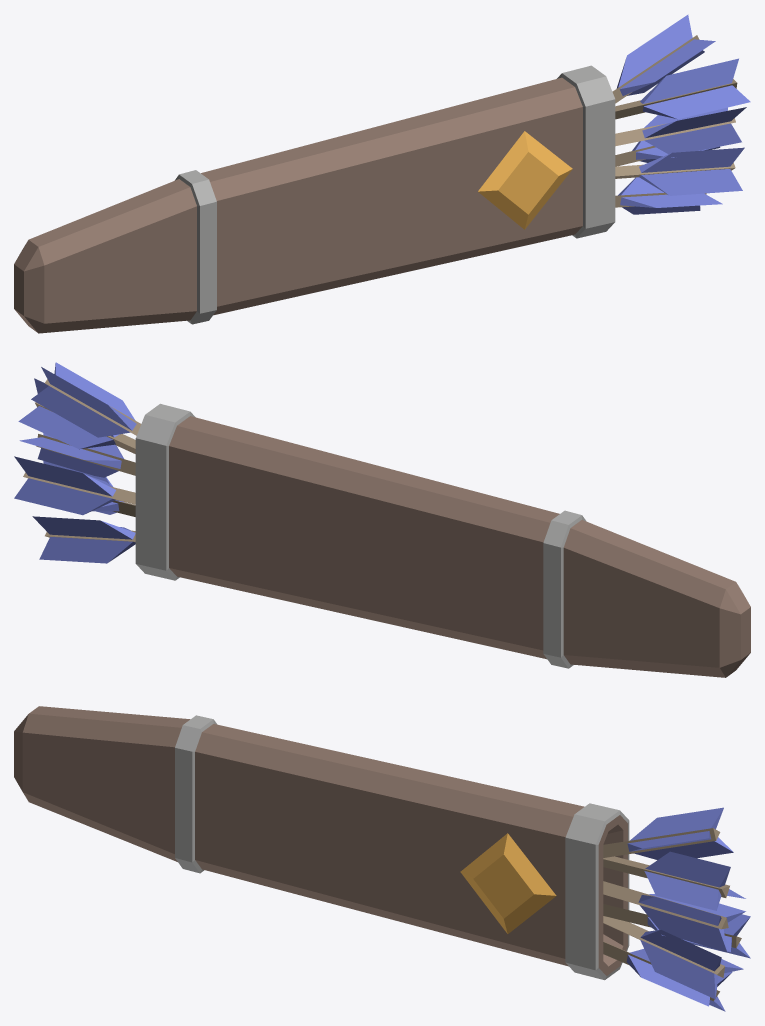
Rendered from quiver.glb.
The picture shows the model from 3 angles, top to bottom: view 1: azimuth 30°, elevation 25°; view 2: azimuth 150°, elevation 25°; view 3: azimuth 330°, elevation 25°; orthographic projection. The views are drawn at different scales.
Visible parts, largest first — view 1: quiver; view 2: quiver; view 3: quiver.
Boxes of the visible parts, <box> form: quiver: <box>14,14,750,333</box>; quiver: <box>14,362,750,677</box>; quiver: <box>14,706,750,1011</box>.
Size of the model in its own units: 1.26 by 0.3278 by 0.1267.
Materials: 1 (1 with a texture image).
